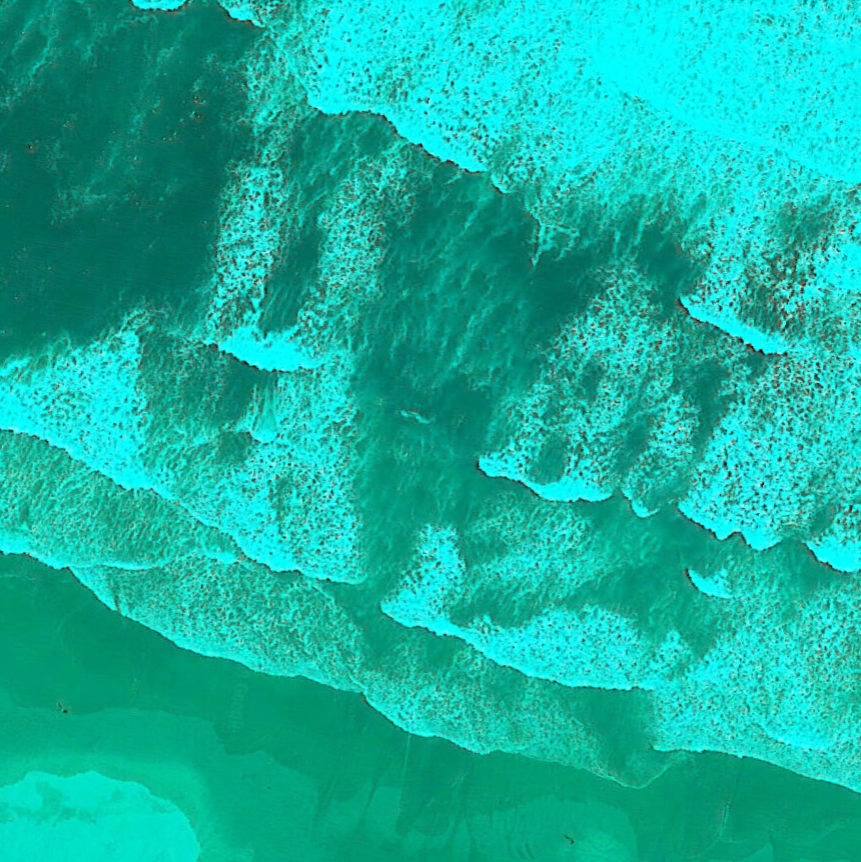rip_current: (249, 107, 626, 631)
